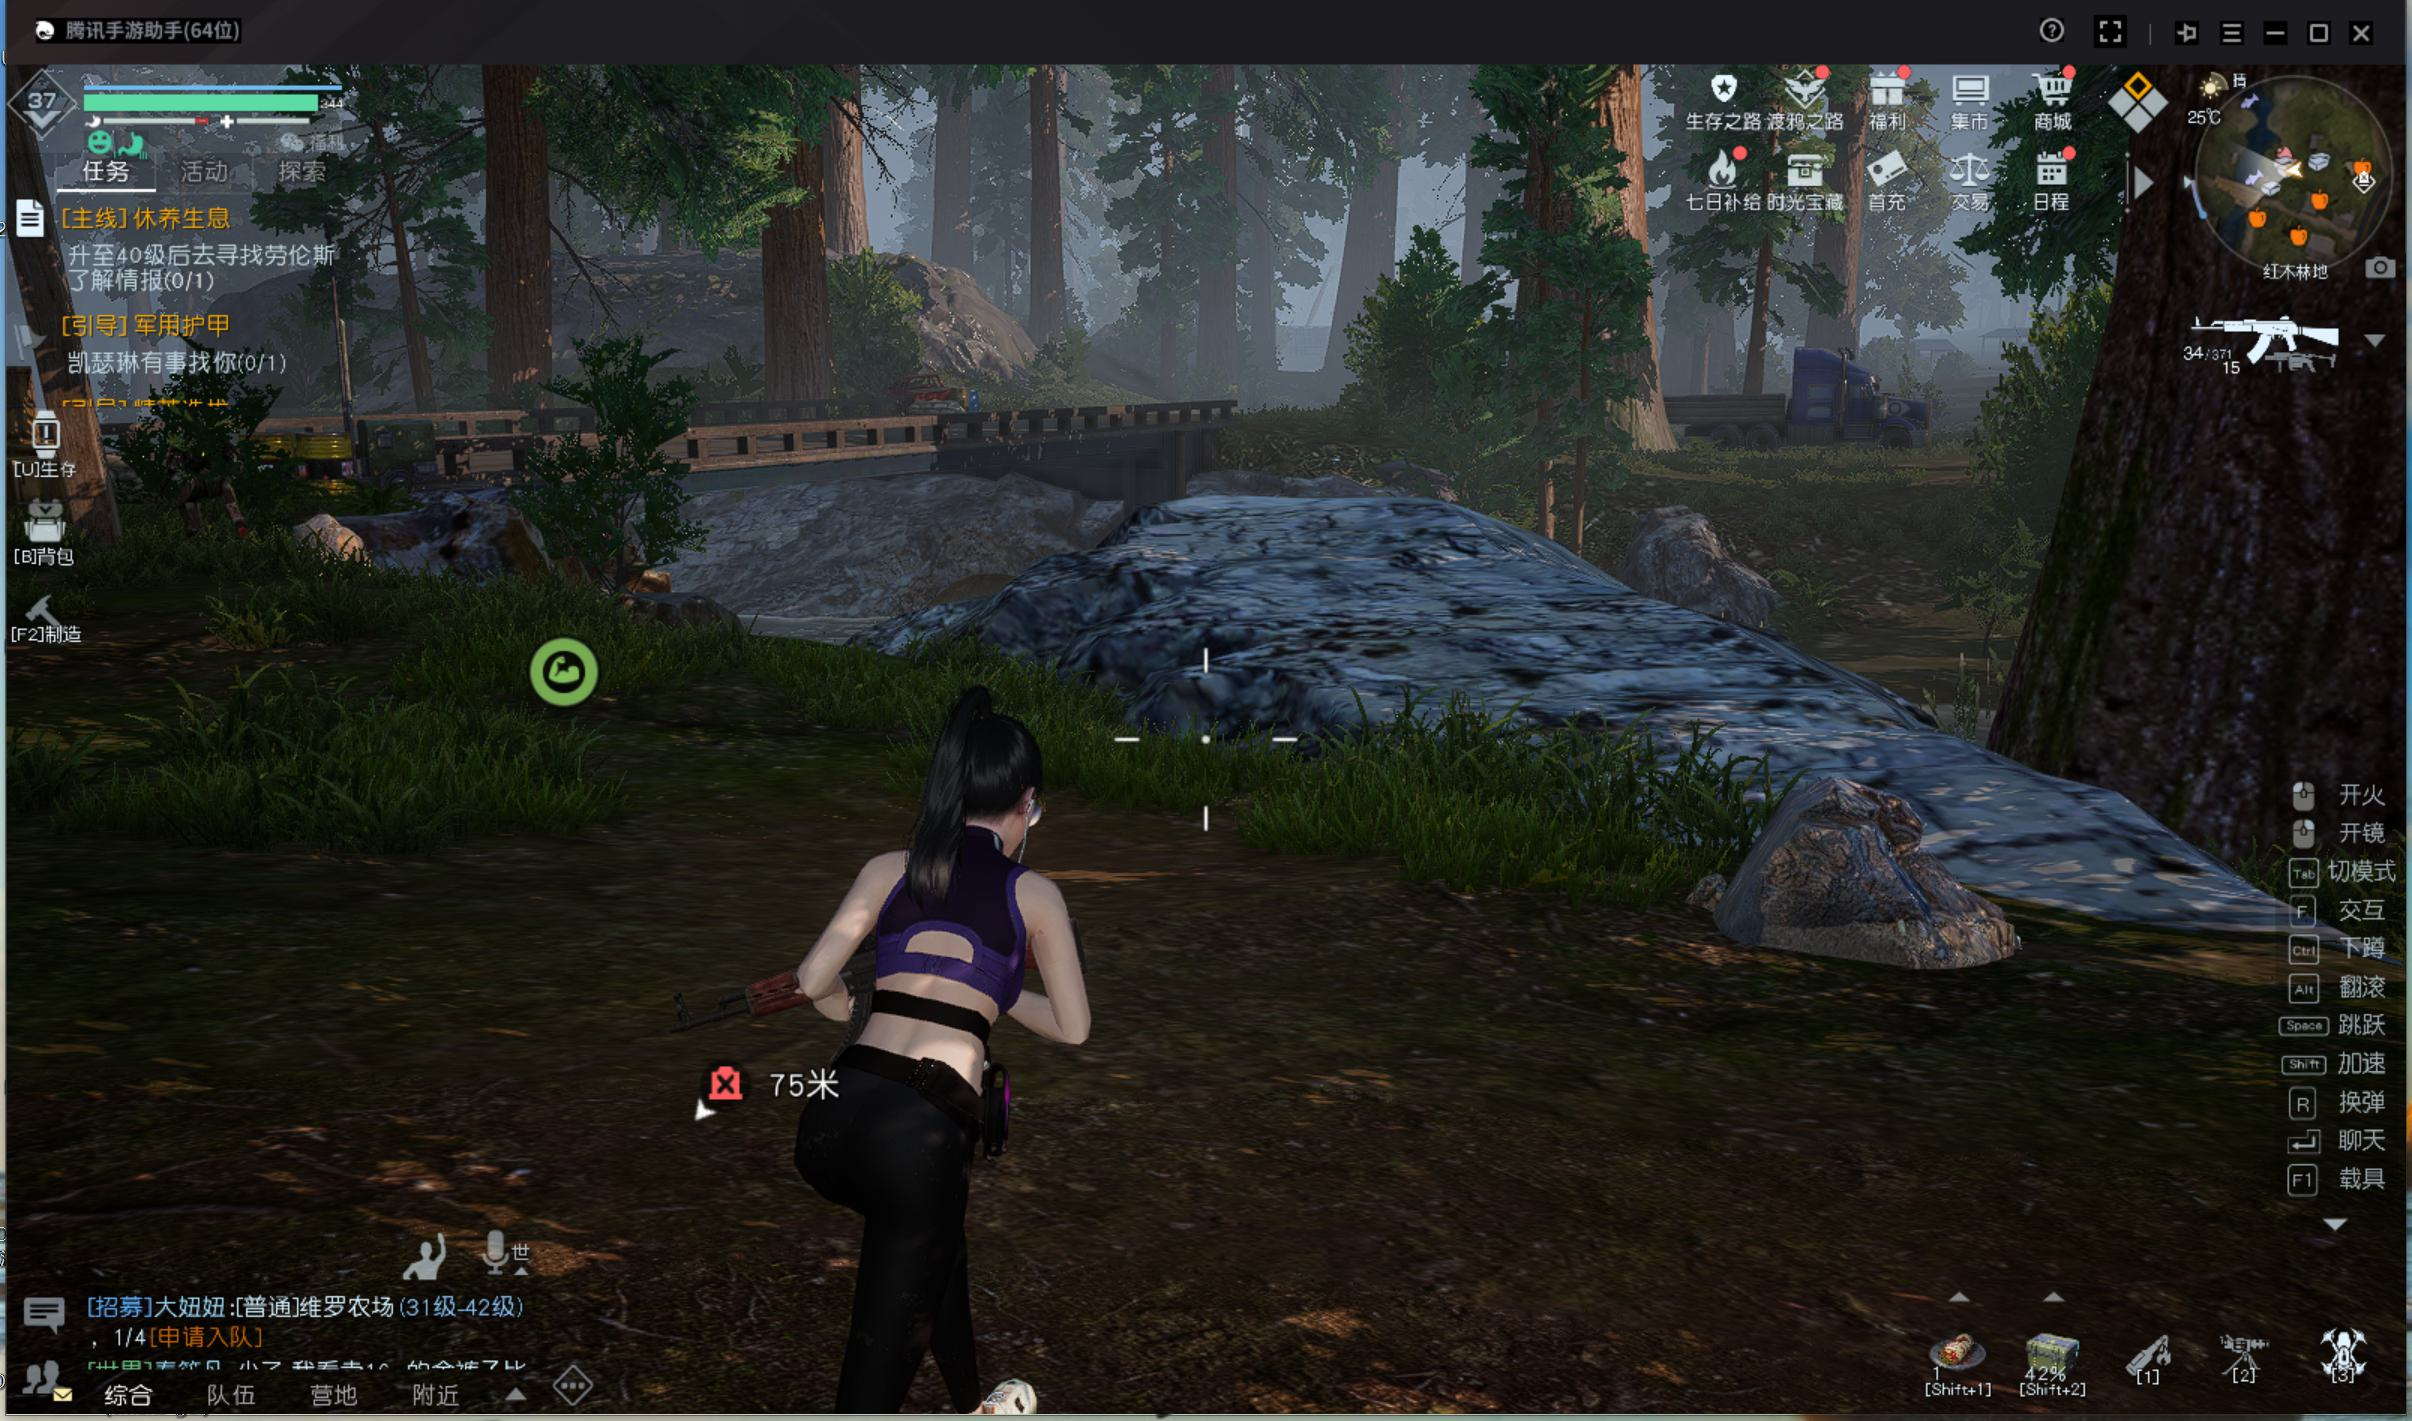stone: (1624, 760, 1999, 1001), (1598, 494, 1776, 651)
tree: (1482, 120, 1676, 475), (474, 91, 573, 452), (759, 147, 836, 426), (1186, 167, 1245, 408)
